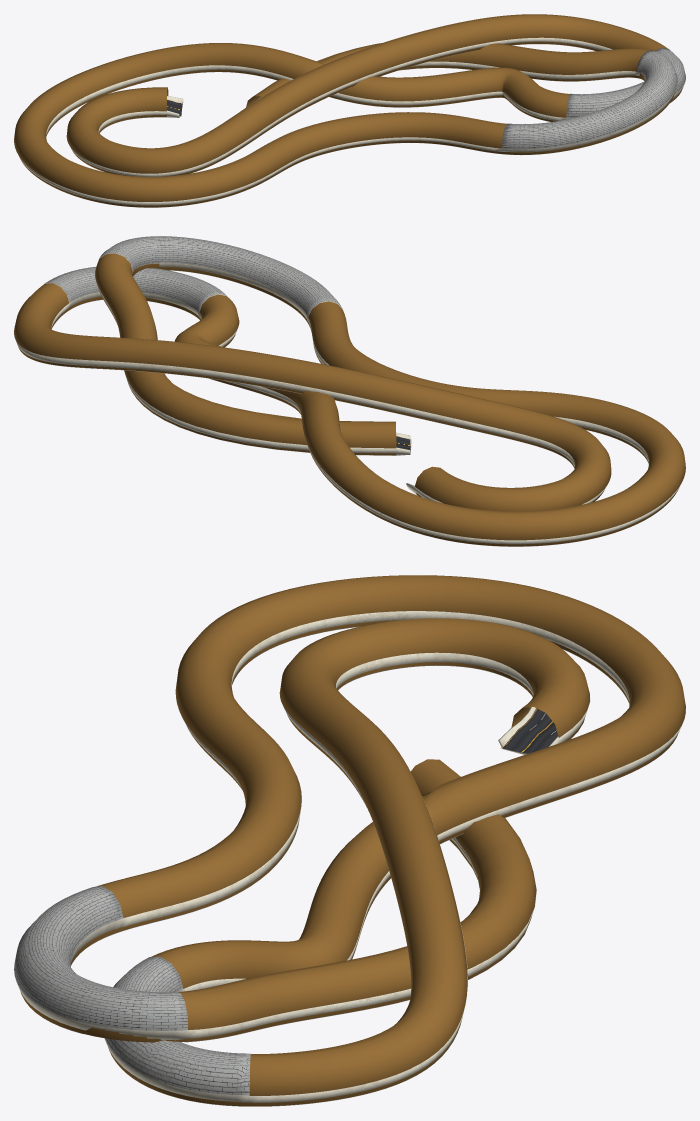
The model's file is race track 1.fbx.
3 views of the same model, one above another, from view 1: azimuth 30°, elevation 25°; view 2: azimuth 150°, elevation 25°; view 3: azimuth 270°, elevation 25° (orthographic). The views are drawn at different scales.
Visible parts, largest first — view 1: Raod, Raod.002; view 2: Raod, Raod.002; view 3: Raod, Raod.002, Raod.001.
Part boxes in pixels (<box>): Raod: <box>14,14,682,207</box>; Raod.002: <box>14,37,685,207</box>; Raod: <box>14,253,685,546</box>; Raod.002: <box>14,236,685,546</box>; Raod: <box>20,575,685,1106</box>; Raod.002: <box>14,611,685,1106</box>; Raod.001: <box>501,708,558,753</box>.
Bounding box in the file's own units: 485 × 39.97 × 274.
1 material, 1 textured.
